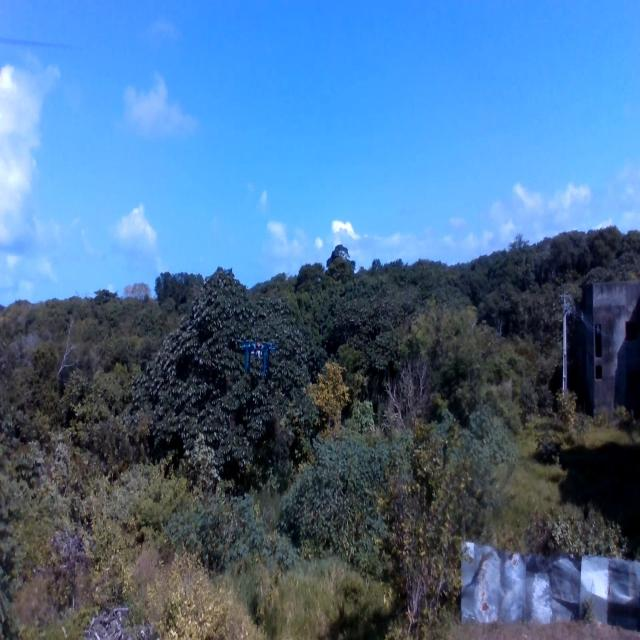-uav-: (238, 333, 275, 375)
